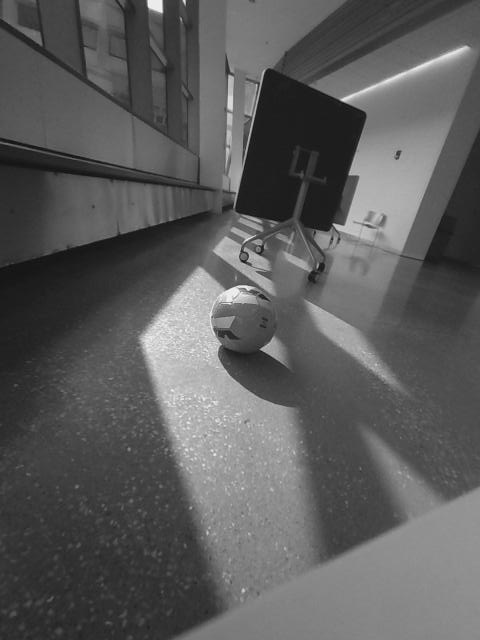ball: (209, 283, 282, 355)
